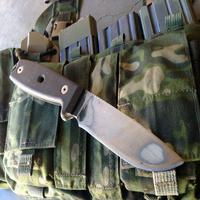knife: (10, 56, 184, 173)
